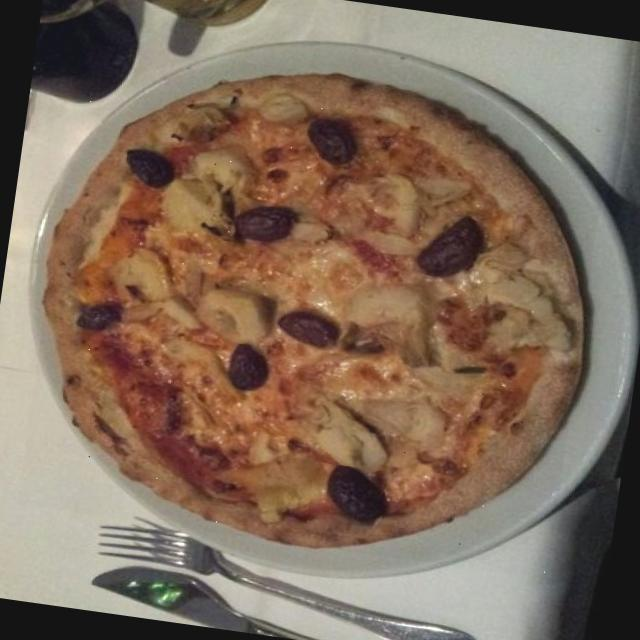Olive: (389, 204, 502, 286), (306, 462, 388, 534), (220, 198, 304, 253), (300, 116, 372, 180), (120, 142, 183, 204), (72, 289, 132, 344), (227, 338, 278, 390), (276, 314, 339, 354)
pizza: (44, 74, 583, 547)
